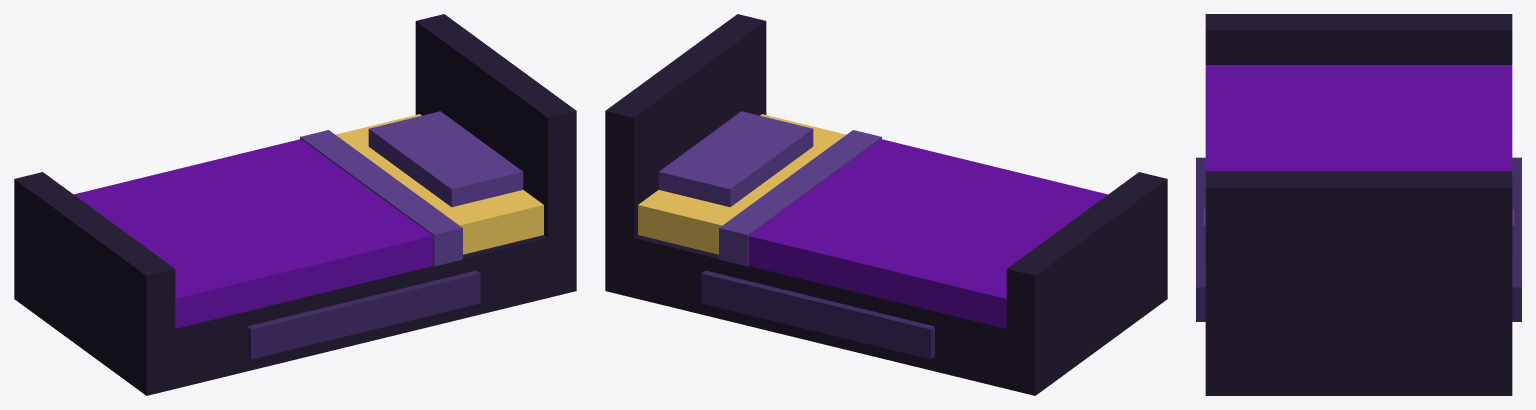
File: cama_cor.gltf
3 renders of one model, left to right at view 1: azimuth 30°, elevation 25°; view 2: azimuth 150°, elevation 25°; view 3: azimuth 270°, elevation 25°, orthographic. The views are drawn at different scales.
Visible parts, largest first — view 1: lencol, pe, cabeceira, inferior, travesseiro, gaveta_lateral, colchao, lencol_sup; view 2: lencol, pe, cabeceira, inferior, travesseiro, gaveta_lateral, colchao, lencol_sup; view 3: cabeceira, lencol, pe, gaveta_lateral (×2), lencol_sup.
Part boxes in pixels (bbox=[...]): lencol: bbox=[74, 139, 433, 328]; pe: bbox=[14, 172, 175, 395]; cabeceira: bbox=[415, 14, 576, 296]; inferior: bbox=[168, 235, 555, 390]; travesseiro: bbox=[368, 111, 523, 207]; gaveta_lateral: bbox=[247, 270, 480, 359]; colchao: bbox=[336, 114, 543, 254]; lencol_sup: bbox=[300, 130, 462, 266]; lencol: bbox=[748, 139, 1107, 328]; pe: bbox=[1006, 172, 1167, 395]; cabeceira: bbox=[605, 14, 766, 297]; inferior: bbox=[626, 235, 1013, 389]; travesseiro: bbox=[658, 111, 813, 207]; gaveta_lateral: bbox=[701, 270, 934, 359]; colchao: bbox=[638, 114, 845, 254]; lencol_sup: bbox=[719, 130, 881, 266]; cabeceira: bbox=[1205, 171, 1512, 395]; lencol: bbox=[1205, 65, 1512, 171]; pe: bbox=[1205, 14, 1512, 64]; gaveta_lateral (×2): bbox=[1196, 157, 1521, 321]; lencol_sup: bbox=[1203, 209, 1514, 261].
Bounding box in the file's own units: 1.88 × 0.75 × 1.06.
10 materials, 5 textured.
